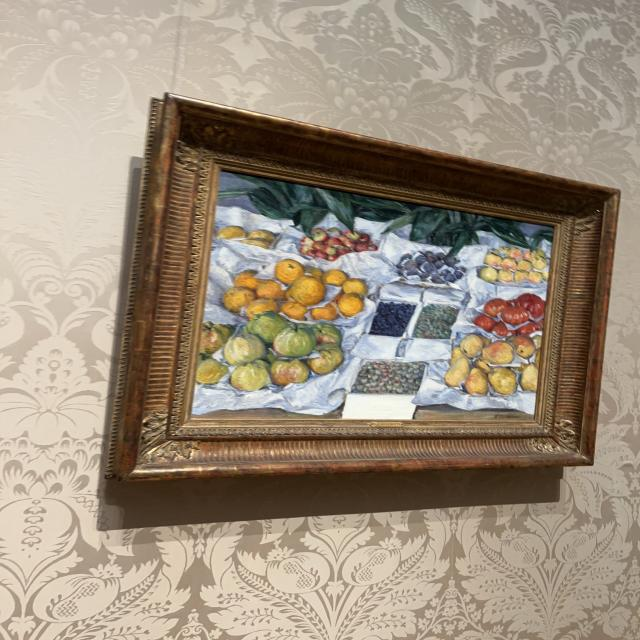fruits: (193, 171, 555, 421)
